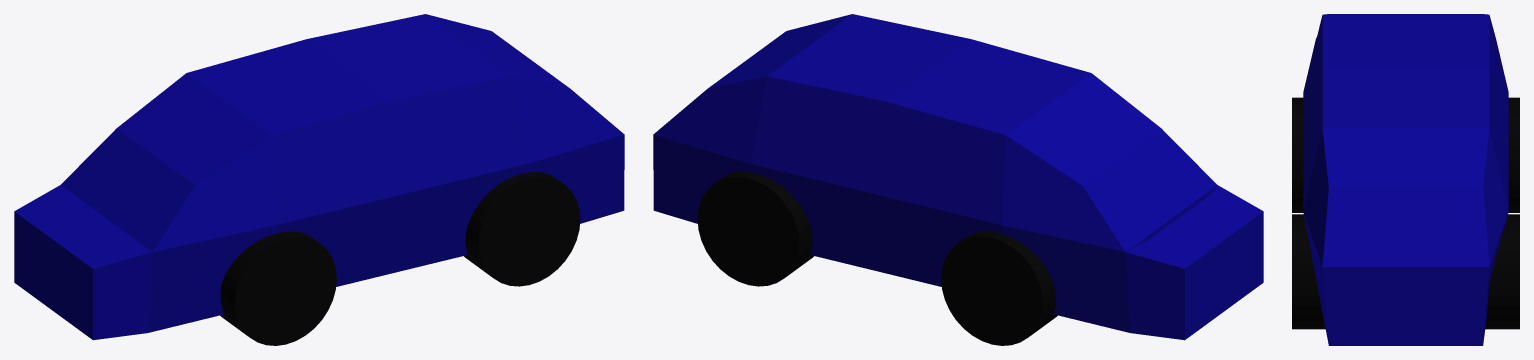
File: CarUpdated.fbx
3 views of the same model, side by side, from view 1: azimuth 30°, elevation 25°; view 2: azimuth 150°, elevation 25°; view 3: azimuth 270°, elevation 25° (orthographic). The views are drawn at different scales.
Visible parts, largest first — view 1: Cube.001, Cylinder; view 2: Cube.001, Cylinder; view 3: Cube.001, Cylinder.
Boxes of the visible parts, left/top/right/bottom form: Cube.001: left=14, top=14, right=624, bottom=340; Cylinder: left=220, top=172, right=580, bottom=345; Cube.001: left=653, top=14, right=1263, bottom=340; Cylinder: left=697, top=171, right=1057, bottom=345; Cube.001: left=1303, top=14, right=1508, bottom=345; Cylinder: left=1292, top=97, right=1519, bottom=329.
Bounding box in the file's own units: 588 × 214 × 223.
